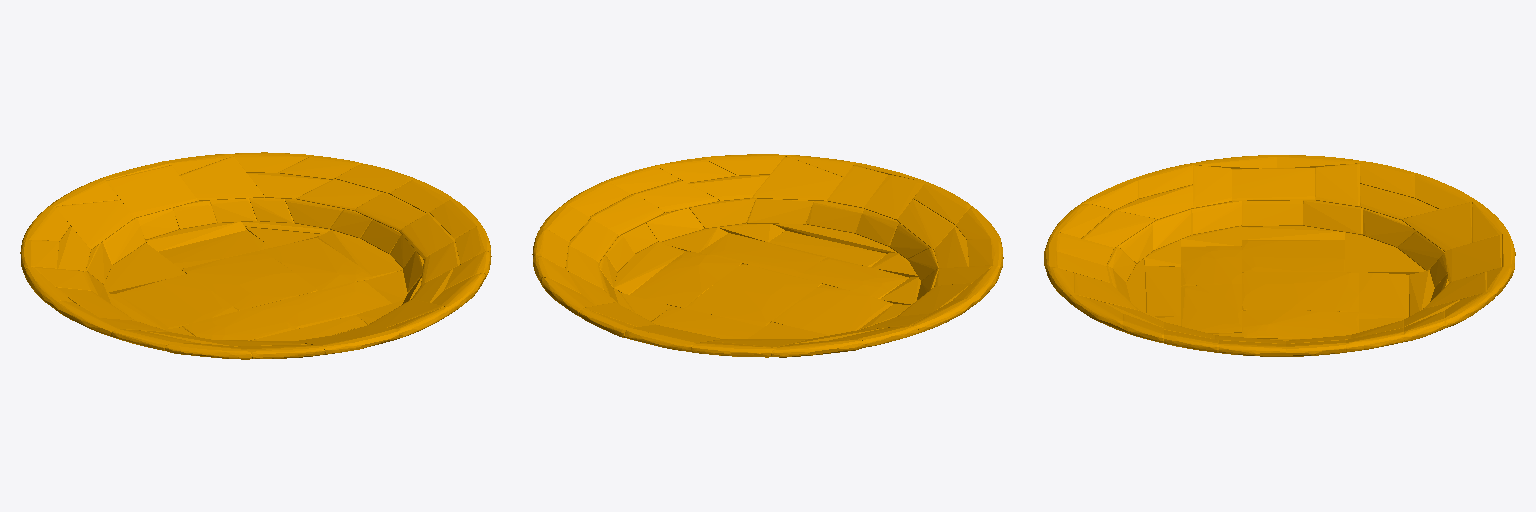
robot.urdf — 029_plate:
<?xml version="1.0" encoding="UTF-8"?>
<robot name="029_plate">
	<link name="base">
		<collision>
			<geometry>
				<mesh filename="..\vhacd\029_plate_vhacd.obj" scale="1.0 1.0 1.0"/>
			</geometry>
			<origin xyz="0 0 0"/>
			<contact_coefficients mu="0.24" />
		</collision>
		<visual>
			<geometry>
				<mesh filename="..\vhacd\029_plate_vhacd.obj" scale="1.0 1.0 1.0"/>
			</geometry>
			<origin xyz="0 0 0"/>
		</visual>
		<inertial>
			<mass value="0"/>
			<inertia ixx="0.0" ixy="-0.0" ixz="-0.0" iyy="0.0" iyz="-0.0" izz="0.0" />
			<origin xyz="-0.010005972127321738 0.0012469395777850902 0.008849692616910564"/>
		</inertial>
	</link>
</robot>

--- What the picture shows (computed from the rendered views, not written in the file) ---
Views: 3 orthographic renders of the robot side by side, from view 1: azimuth 30°, elevation 25°; view 2: azimuth 150°, elevation 25°; view 3: azimuth 270°, elevation 25°.
Robot: 029_plate — 1 links, 0 joints (none); root link base; default pose: every joint at zero.
Links seen in each view (by area): view 1: base; view 2: base; view 3: base.
Boxes of the visible links, left/top/right/bottom form: base: left=20, top=152, right=491, bottom=359; base: left=532, top=154, right=1003, bottom=357; base: left=1044, top=155, right=1515, bottom=356.
Size in the robot's own frame: 0.2604 by 0.2615 by 0.0273 metres.
1 mesh visuals loaded from 1 distinct referenced files (1 OBJ).